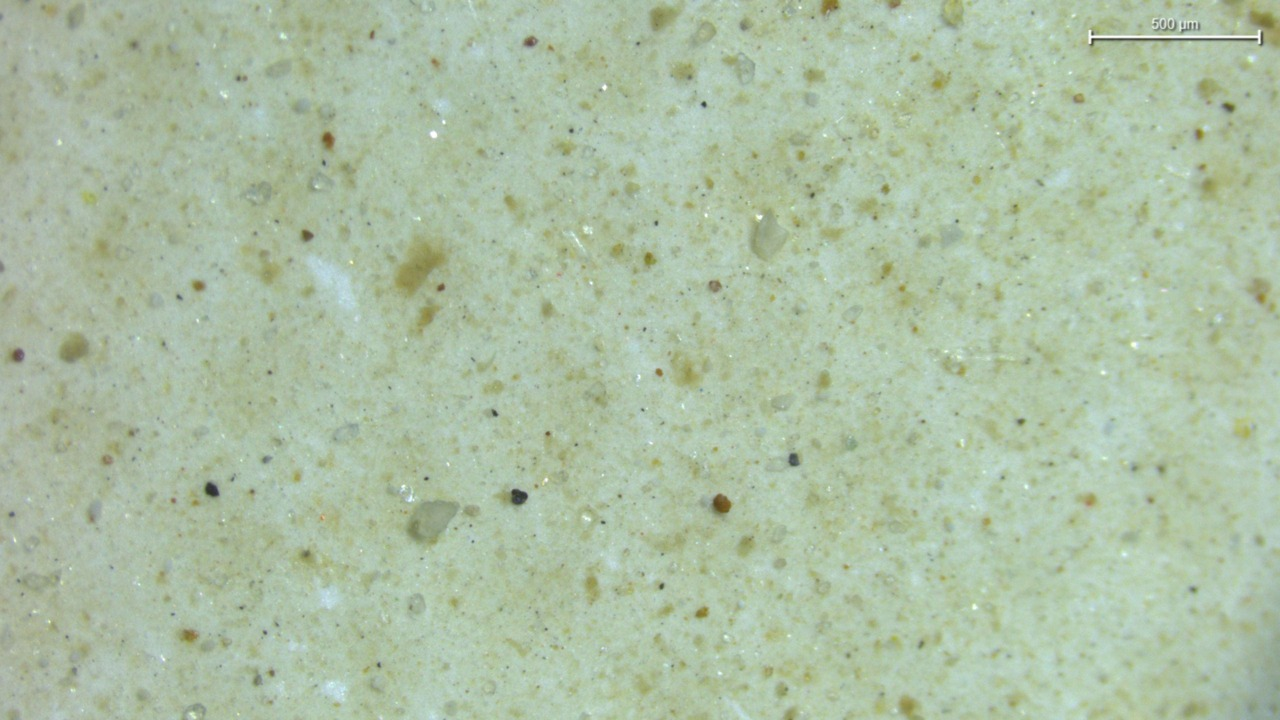microplastic_fragment: (407, 500, 460, 543), (751, 211, 788, 260)
